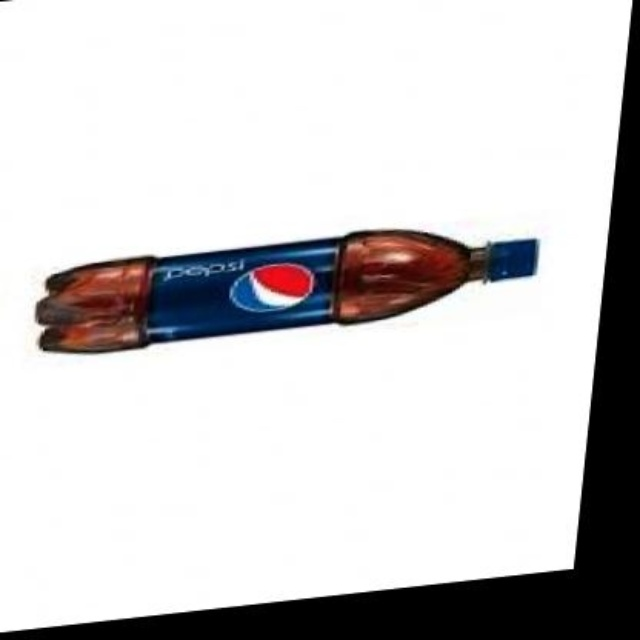trash: (35, 231, 537, 351)
